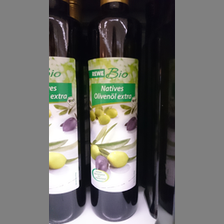oil: (86, 1, 139, 220), (49, 1, 87, 223)
